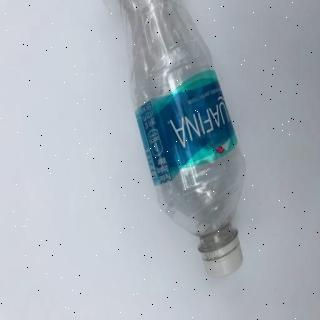Plastic-bottle: (103, 1, 251, 283)
